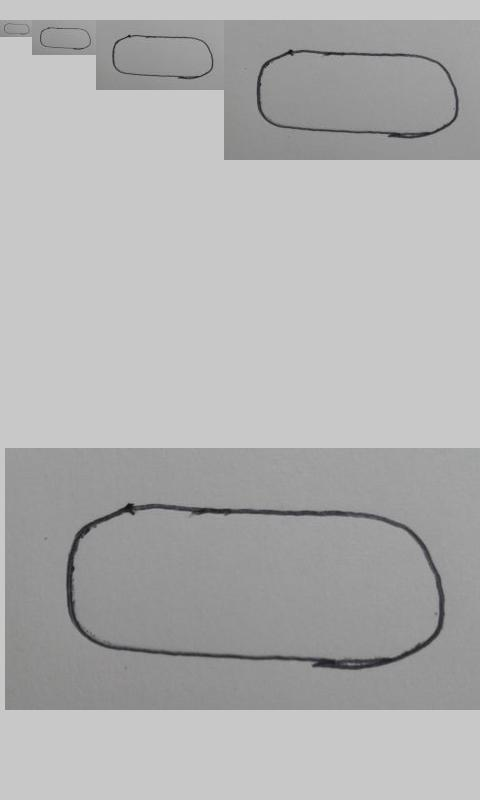chip: (65, 504, 447, 671), (257, 49, 459, 138), (112, 34, 214, 80), (40, 26, 92, 50), (3, 22, 31, 35)
